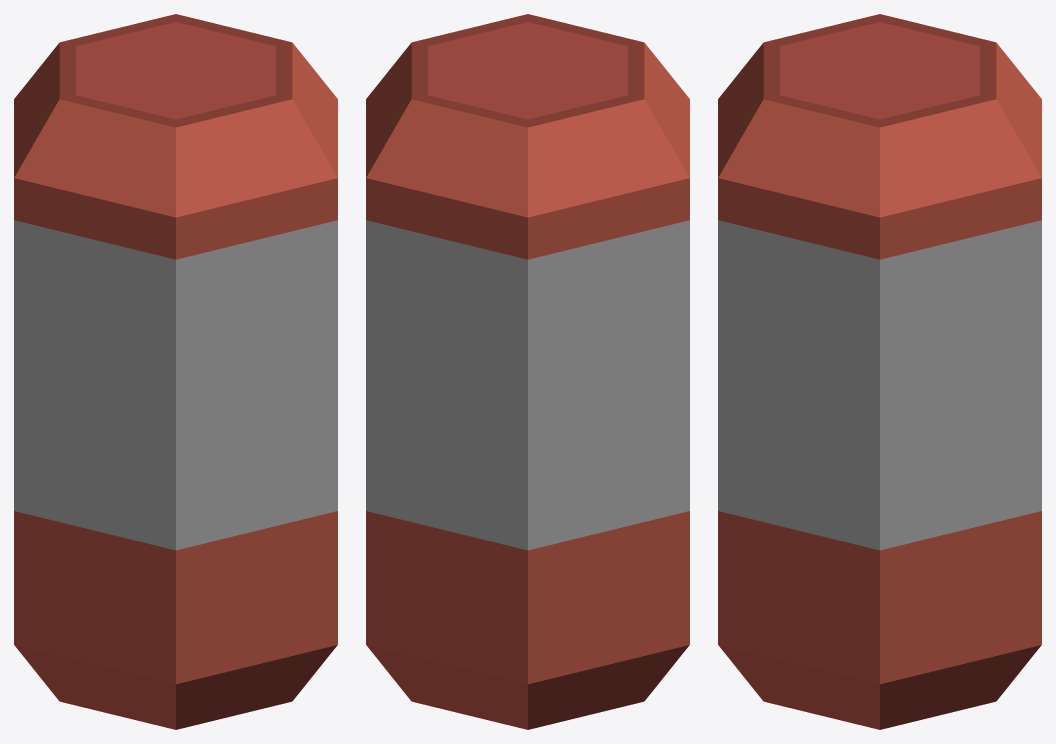
The model's file is SM_Prop_Crate_04.fbx.
3 views of the same model, side by side, from view 1: azimuth 30°, elevation 25°; view 2: azimuth 150°, elevation 25°; view 3: azimuth 270°, elevation 25° (orthographic).
Visible parts, largest first — view 1: SM_Prop_Crate_04; view 2: SM_Prop_Crate_04; view 3: SM_Prop_Crate_04.
Part boxes in pixels (x1,y1,x2,y2): SM_Prop_Crate_04: [14, 14, 337, 729]; SM_Prop_Crate_04: [366, 14, 689, 729]; SM_Prop_Crate_04: [718, 14, 1041, 729].
Size of the model in its own units: 1.06 by 1.89 by 0.9219.
